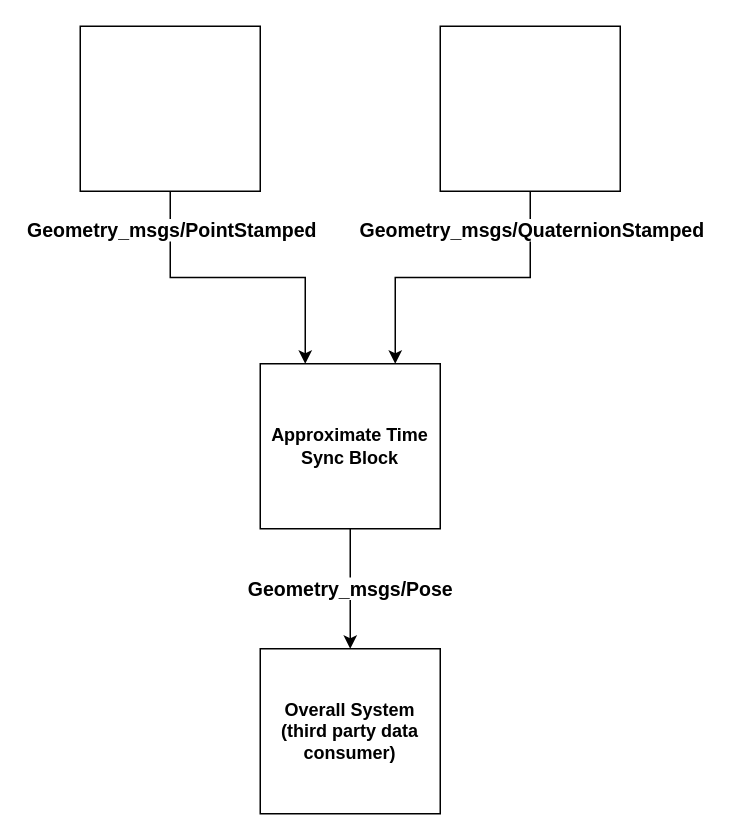
Image size: 729x840. Some labels were removed from this diagram. The centre of each missing label's shape, as x and y in pixels:
"BNO055 Orientation Capture System" goes at (x=529, y=108).
"Kinect Position Capture System" goes at (x=169, y=108).
